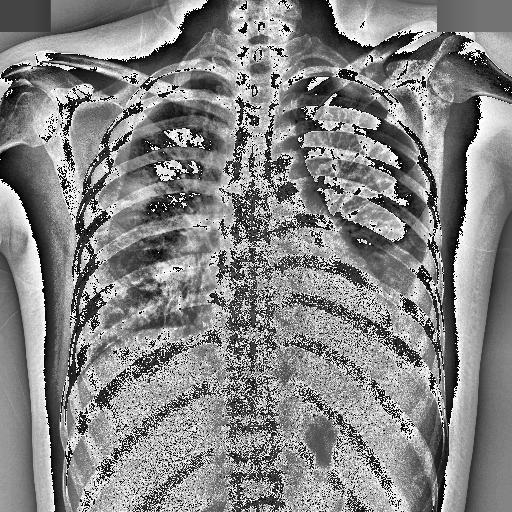10- Pleural effusion: (72, 59, 228, 393), (379, 225, 436, 369), (60, 306, 136, 397)
11- Pleural thickening: (98, 57, 234, 158), (69, 158, 113, 378), (126, 58, 232, 130), (286, 59, 400, 114), (344, 70, 402, 118)
3- Cardiomegaly: (194, 262, 394, 350), (199, 280, 396, 368)
4- Consolidation: (379, 239, 433, 351), (366, 238, 419, 336), (134, 258, 188, 324), (118, 177, 154, 207)
6- Infiltration: (71, 165, 196, 380), (96, 164, 208, 341), (97, 168, 215, 322)
7- Lung Opacity: (71, 165, 196, 380), (96, 164, 208, 341), (358, 212, 443, 373), (366, 238, 419, 336)
